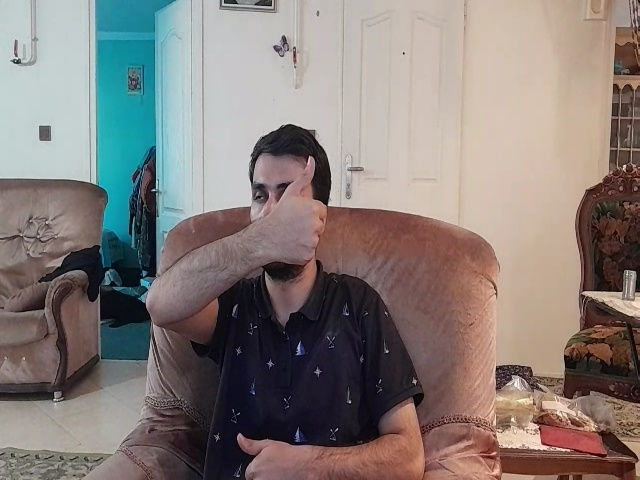ThumbsUp: (254, 152, 327, 267)
